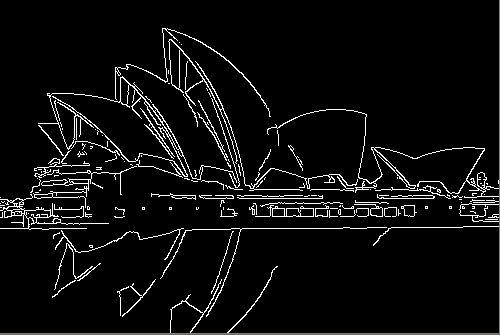opera house: (29, 19, 489, 198)
